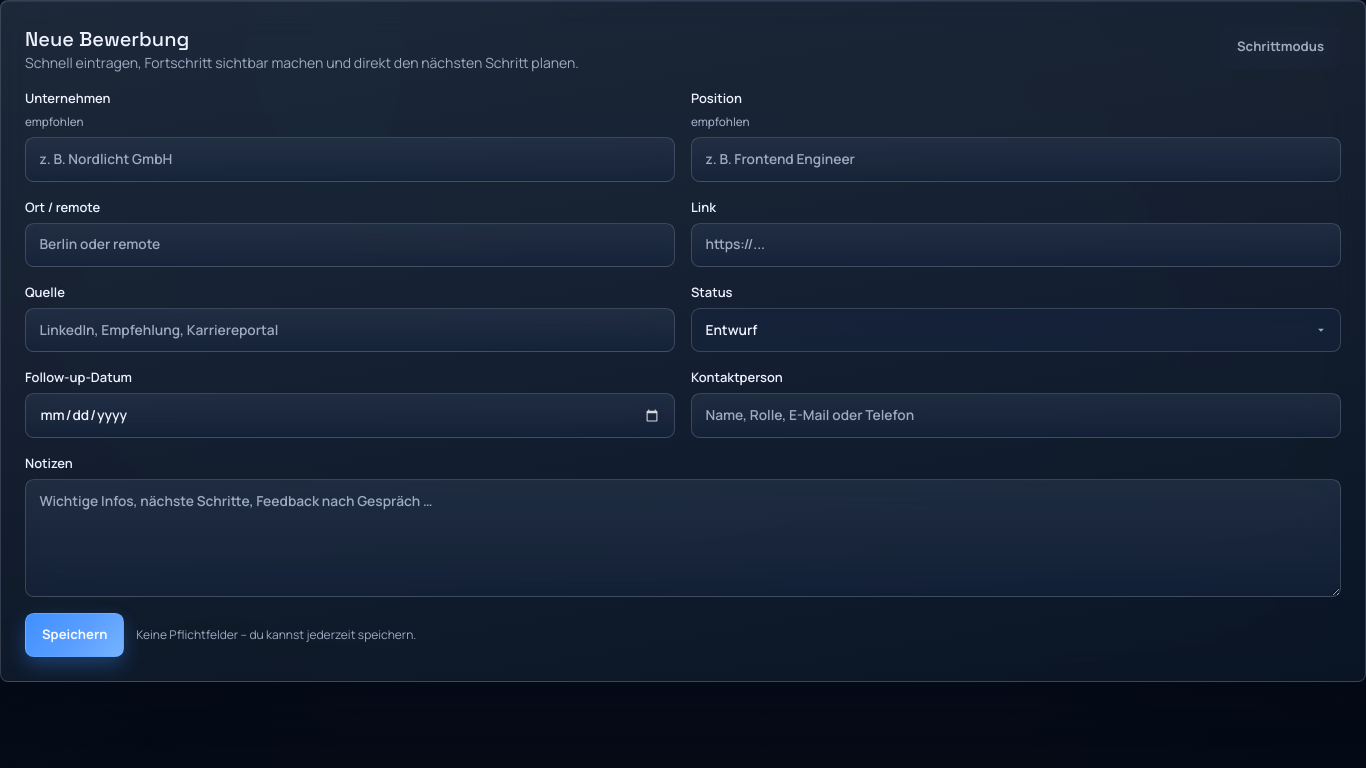
ApplicationForm › clears and disables follow-up for terminal statuses
This screenshot has width=1366, height=768.
Select "Beworben" in the dropdown labelled "Status": (1016, 330) [691,308,1341,352]
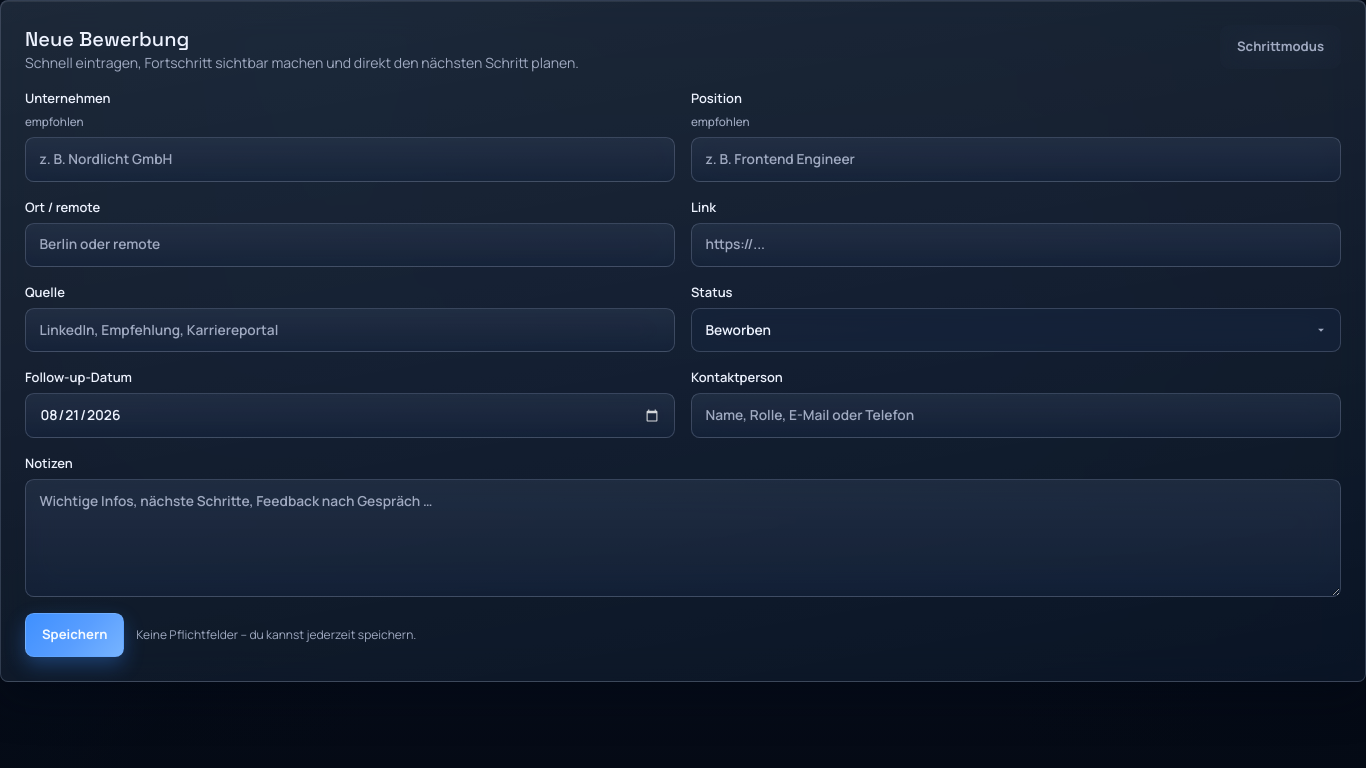
Select "Abgelehnt" in the dropdown labelled "Status": (1016, 330) [691,308,1341,352]
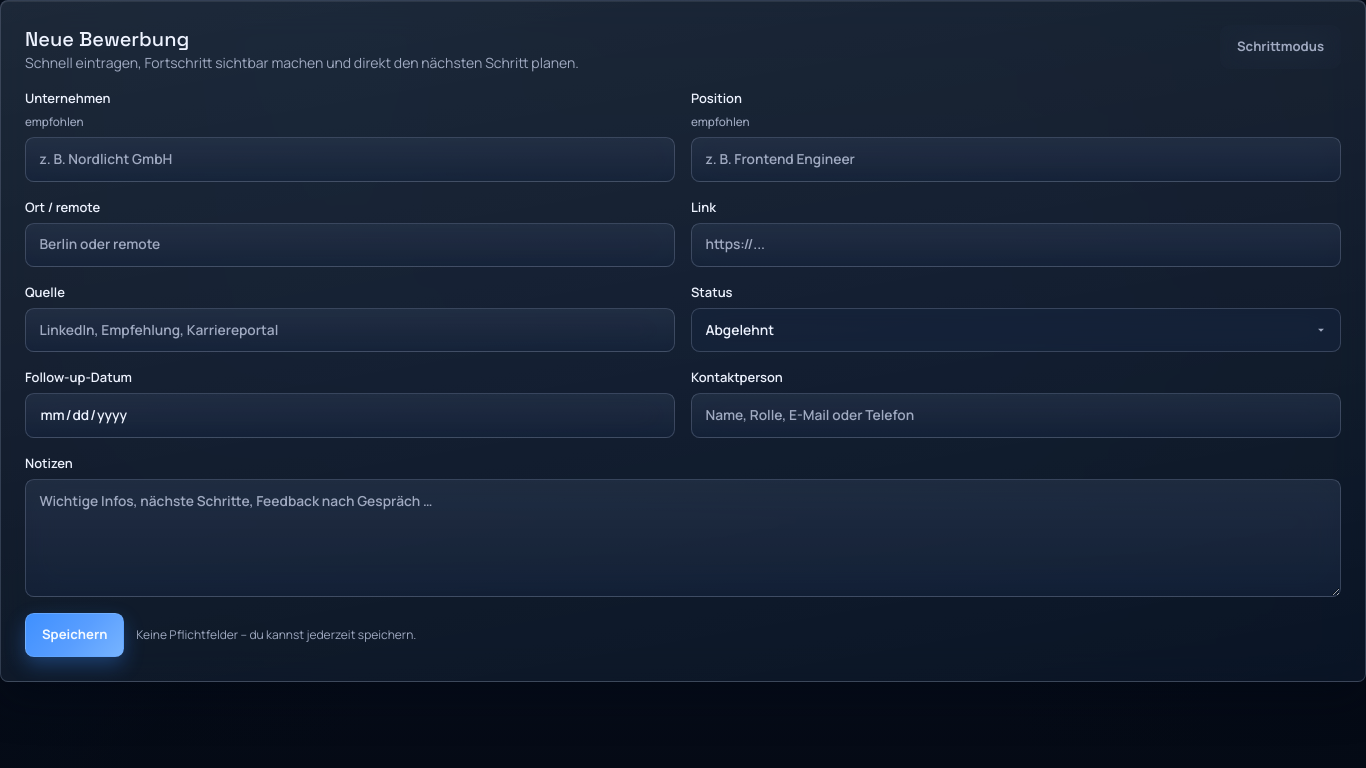
Check: the date field labelled "Follow-up-Datum" is empty, box [25,393,675,438]
Check: the date field labelled "Follow-up-Datum" is disabled, box [25,393,675,438]
